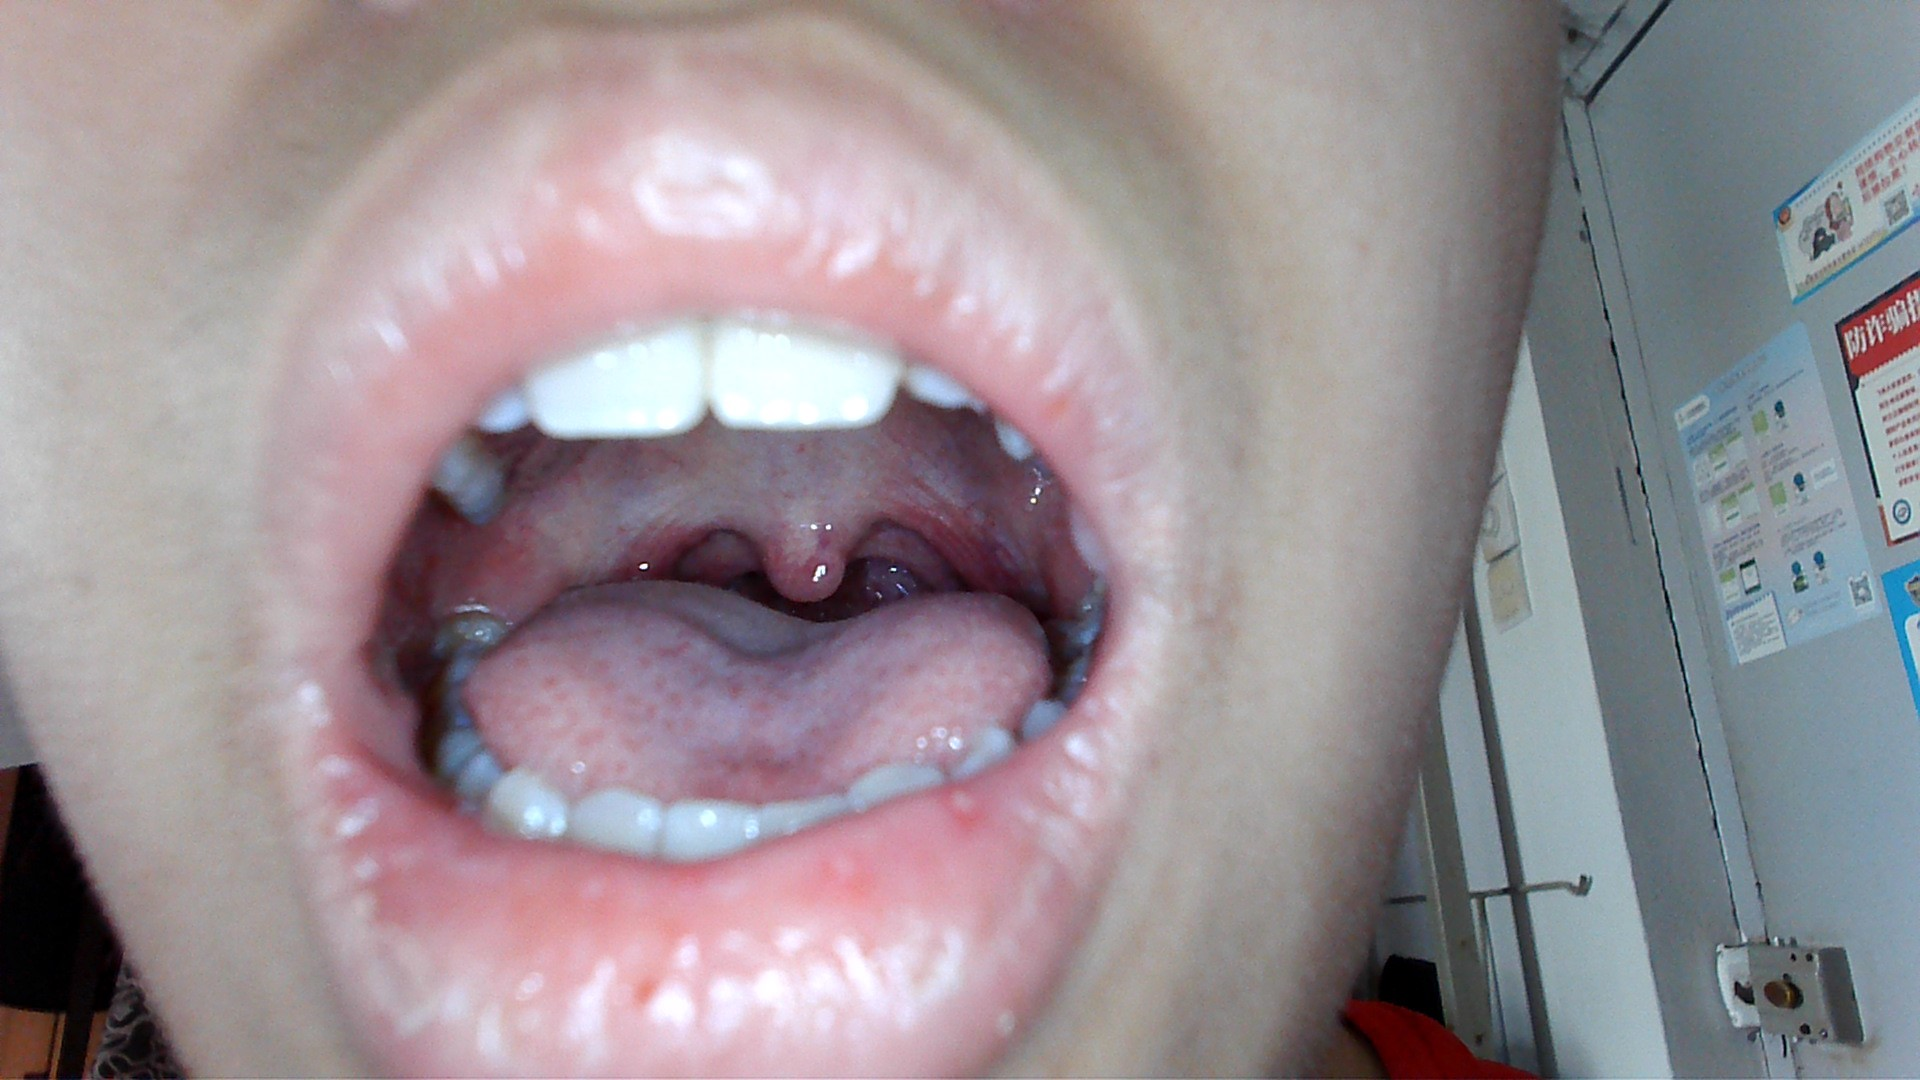throat: (906, 496, 1010, 596), (611, 516, 717, 576)
